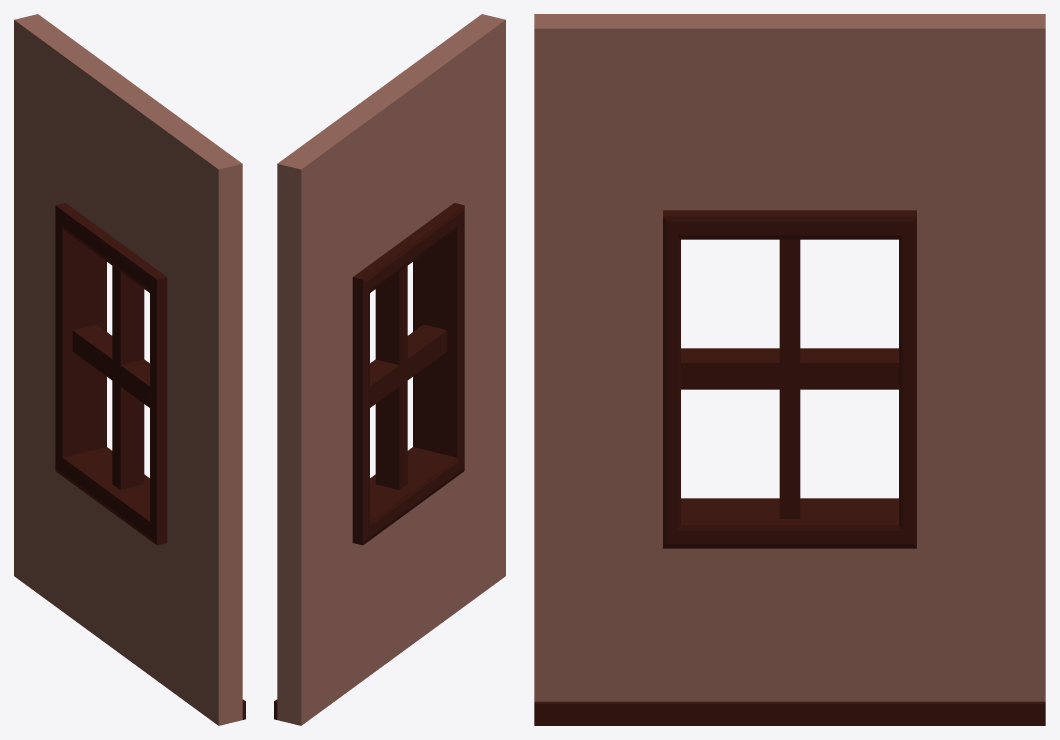
The model's file is T_Fenetre_02.fbx.
The picture shows the model from 3 angles, left to right: view 1: azimuth 30°, elevation 25°; view 2: azimuth 150°, elevation 25°; view 3: azimuth 270°, elevation 25°; orthographic projection. The views are drawn at different scales.
Parts seen in each view (by area): view 1: T_Fenetre_02; view 2: T_Fenetre_02; view 3: T_Fenetre_02.
Part boxes in pixels (x1,y1,x2,y2): T_Fenetre_02: [14, 14, 245, 725]; T_Fenetre_02: [274, 14, 505, 725]; T_Fenetre_02: [534, 14, 1045, 725].
Bounding box in the file's own units: 26.02 × 300 × 200.
